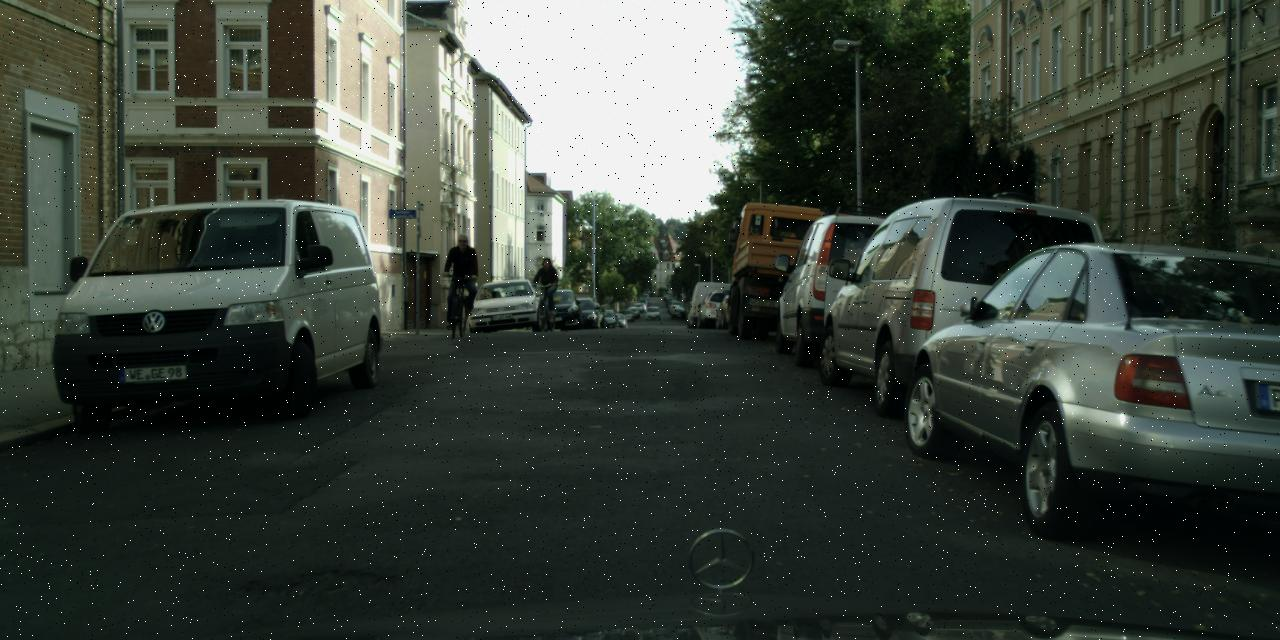ped: (445, 233, 478, 315), (534, 258, 558, 316)
